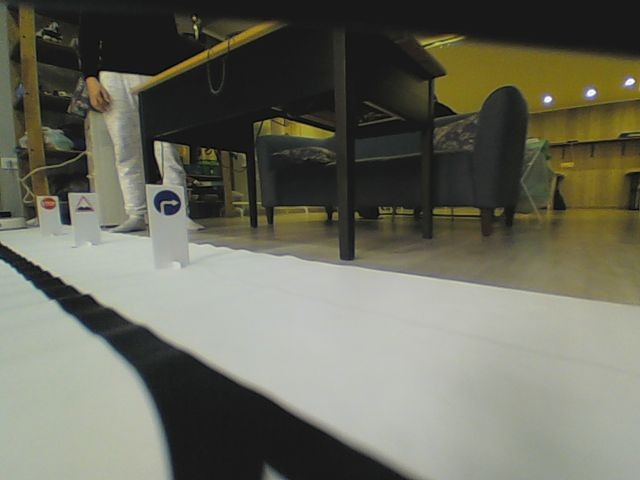Nerov: (73, 195, 96, 214)
Right: (153, 188, 182, 215)
Stop: (41, 198, 55, 210)
